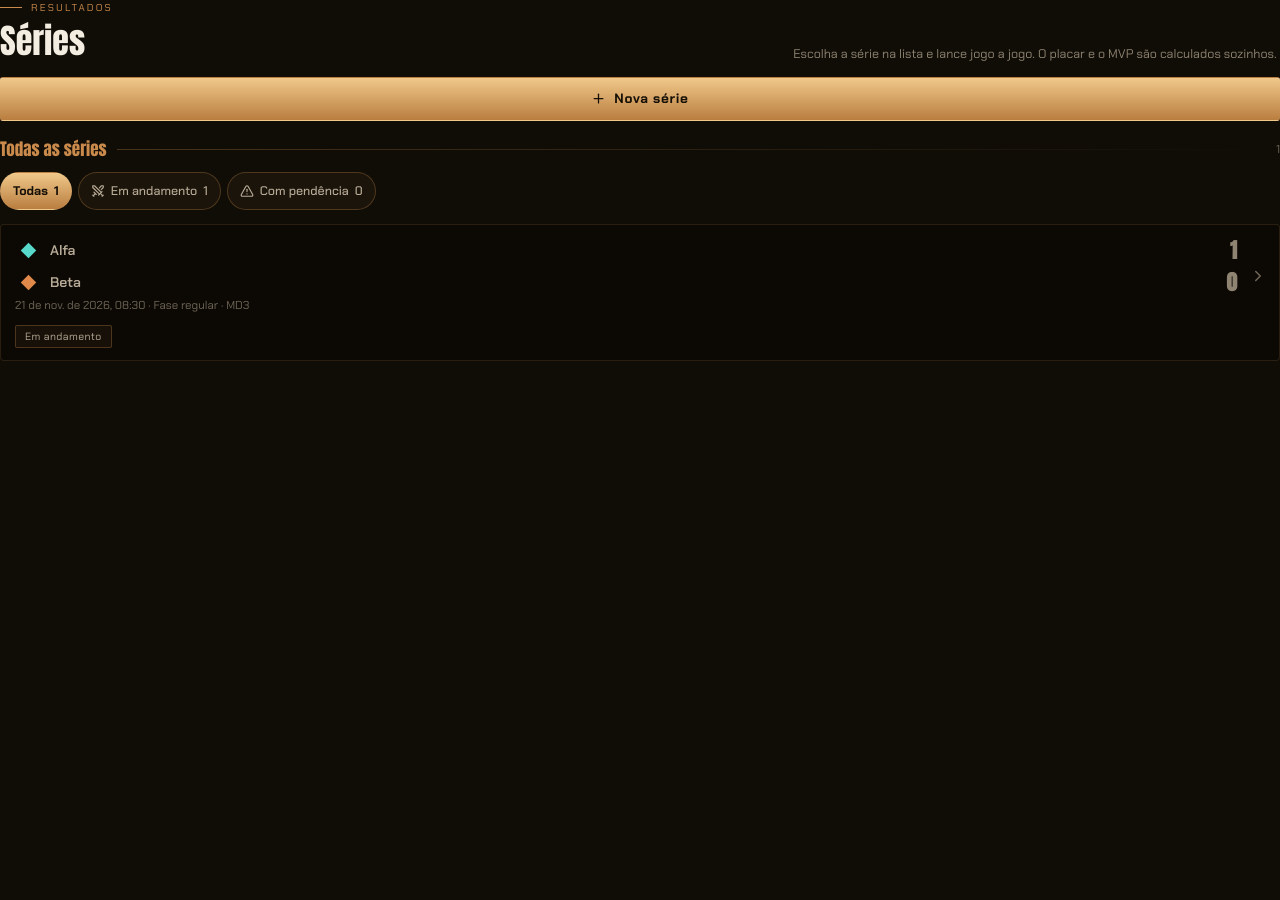
it: Séries no celular › Concluir fecha a folha e descarta a linha em branco, como trocar de série no monitor
This screenshot has width=1280, height=900.
Click the button with aria-label "Abrir a série Alfa x Beta" at point(65, 282), box [15,237,1237,295]
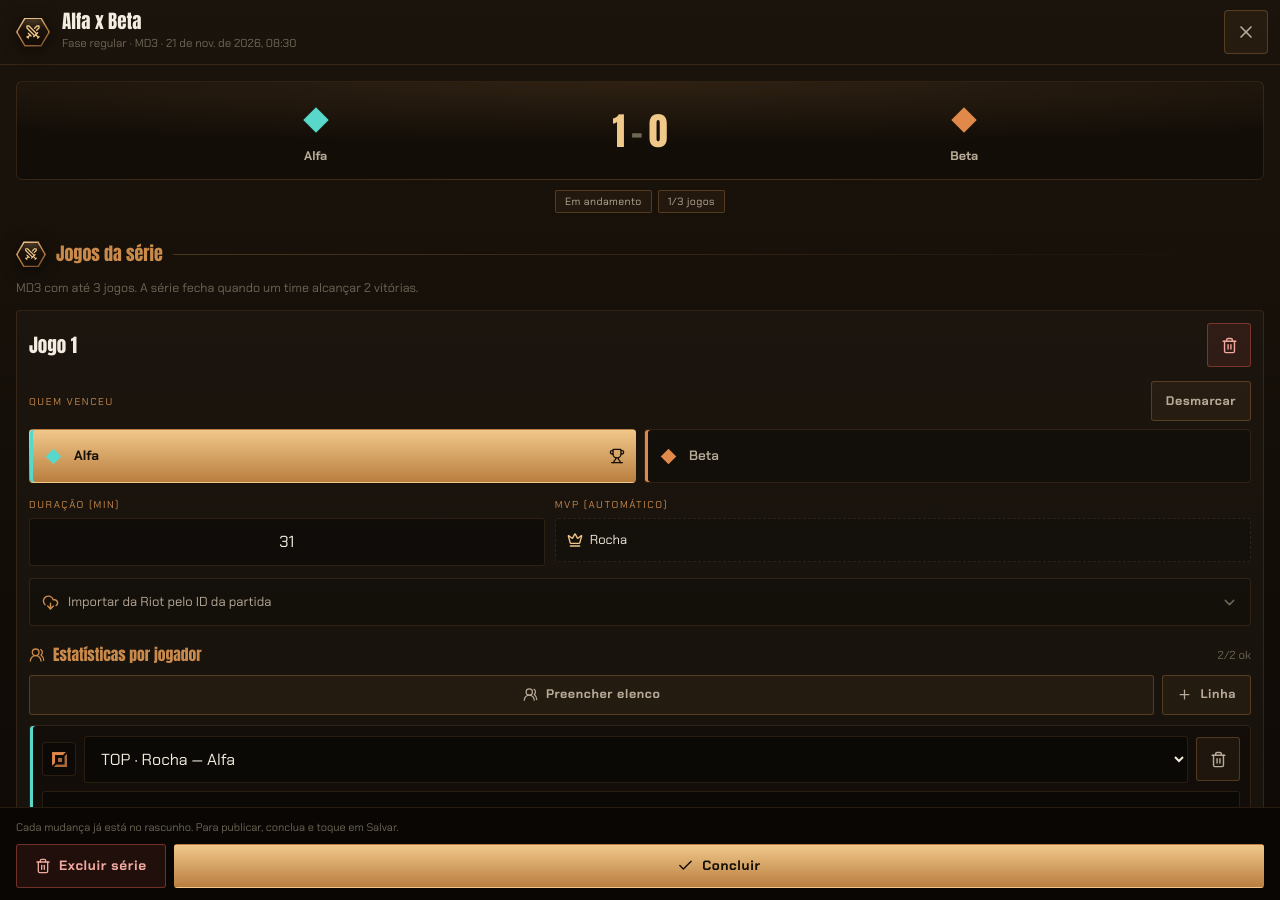
Click the button "Linha" at point(1207, 695), box [1162,675,1251,715]
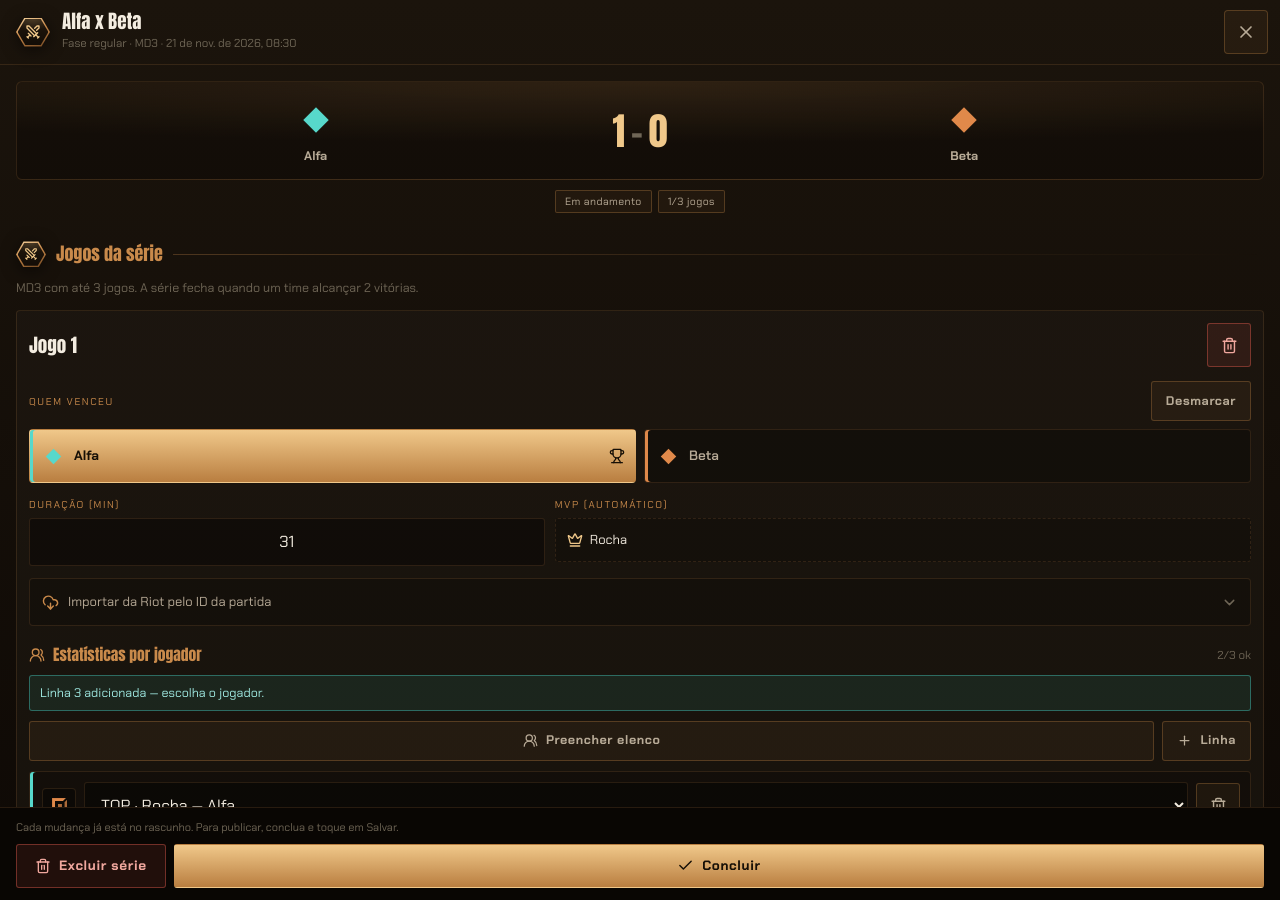
Click the button "Concluir" at point(719, 866), box [174,844,1264,888]
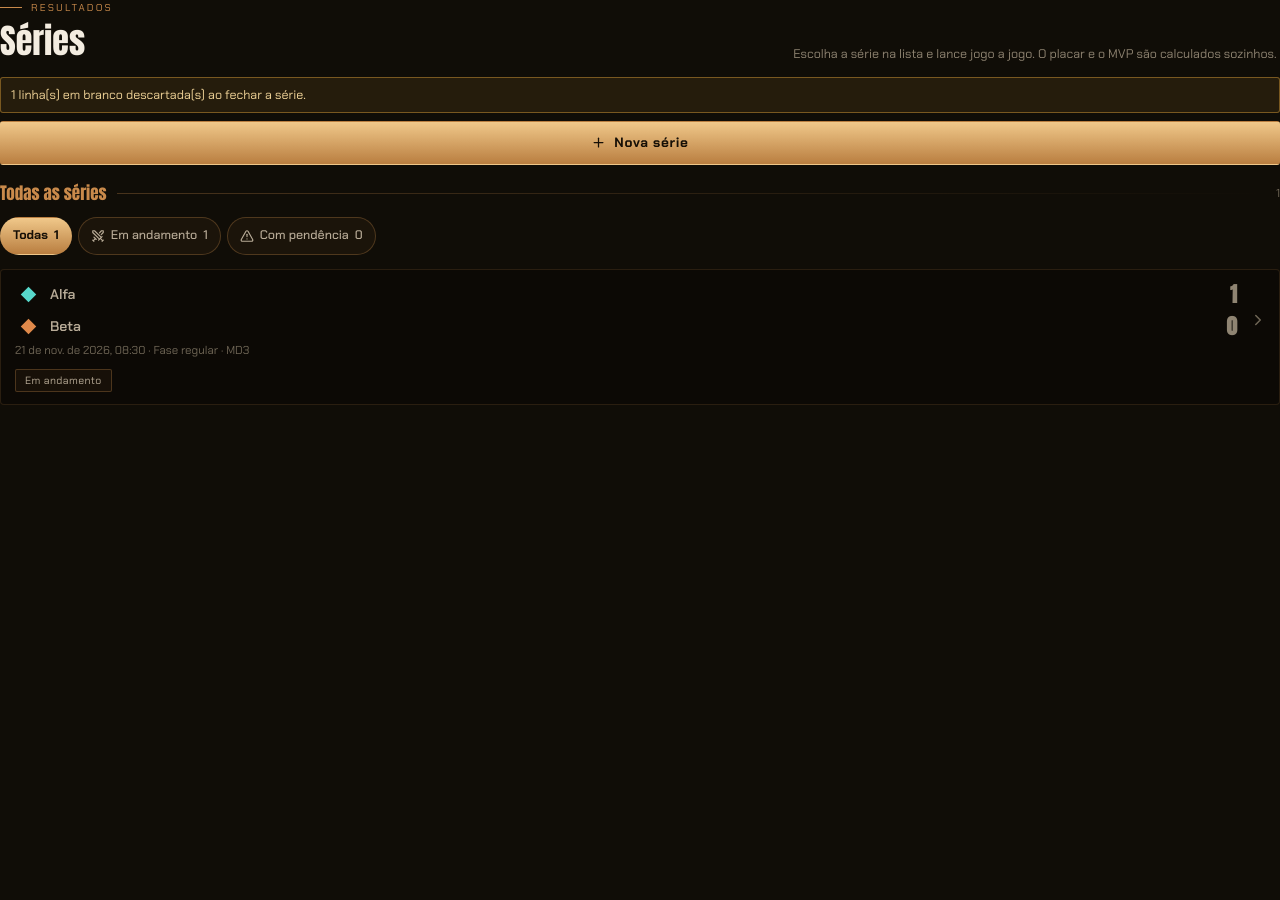
Expected: the dialog is gone
Expected: the text "1 linha(s) em branco descartada(s) ao fechar a série." is shown, [0,77,1279,113]
